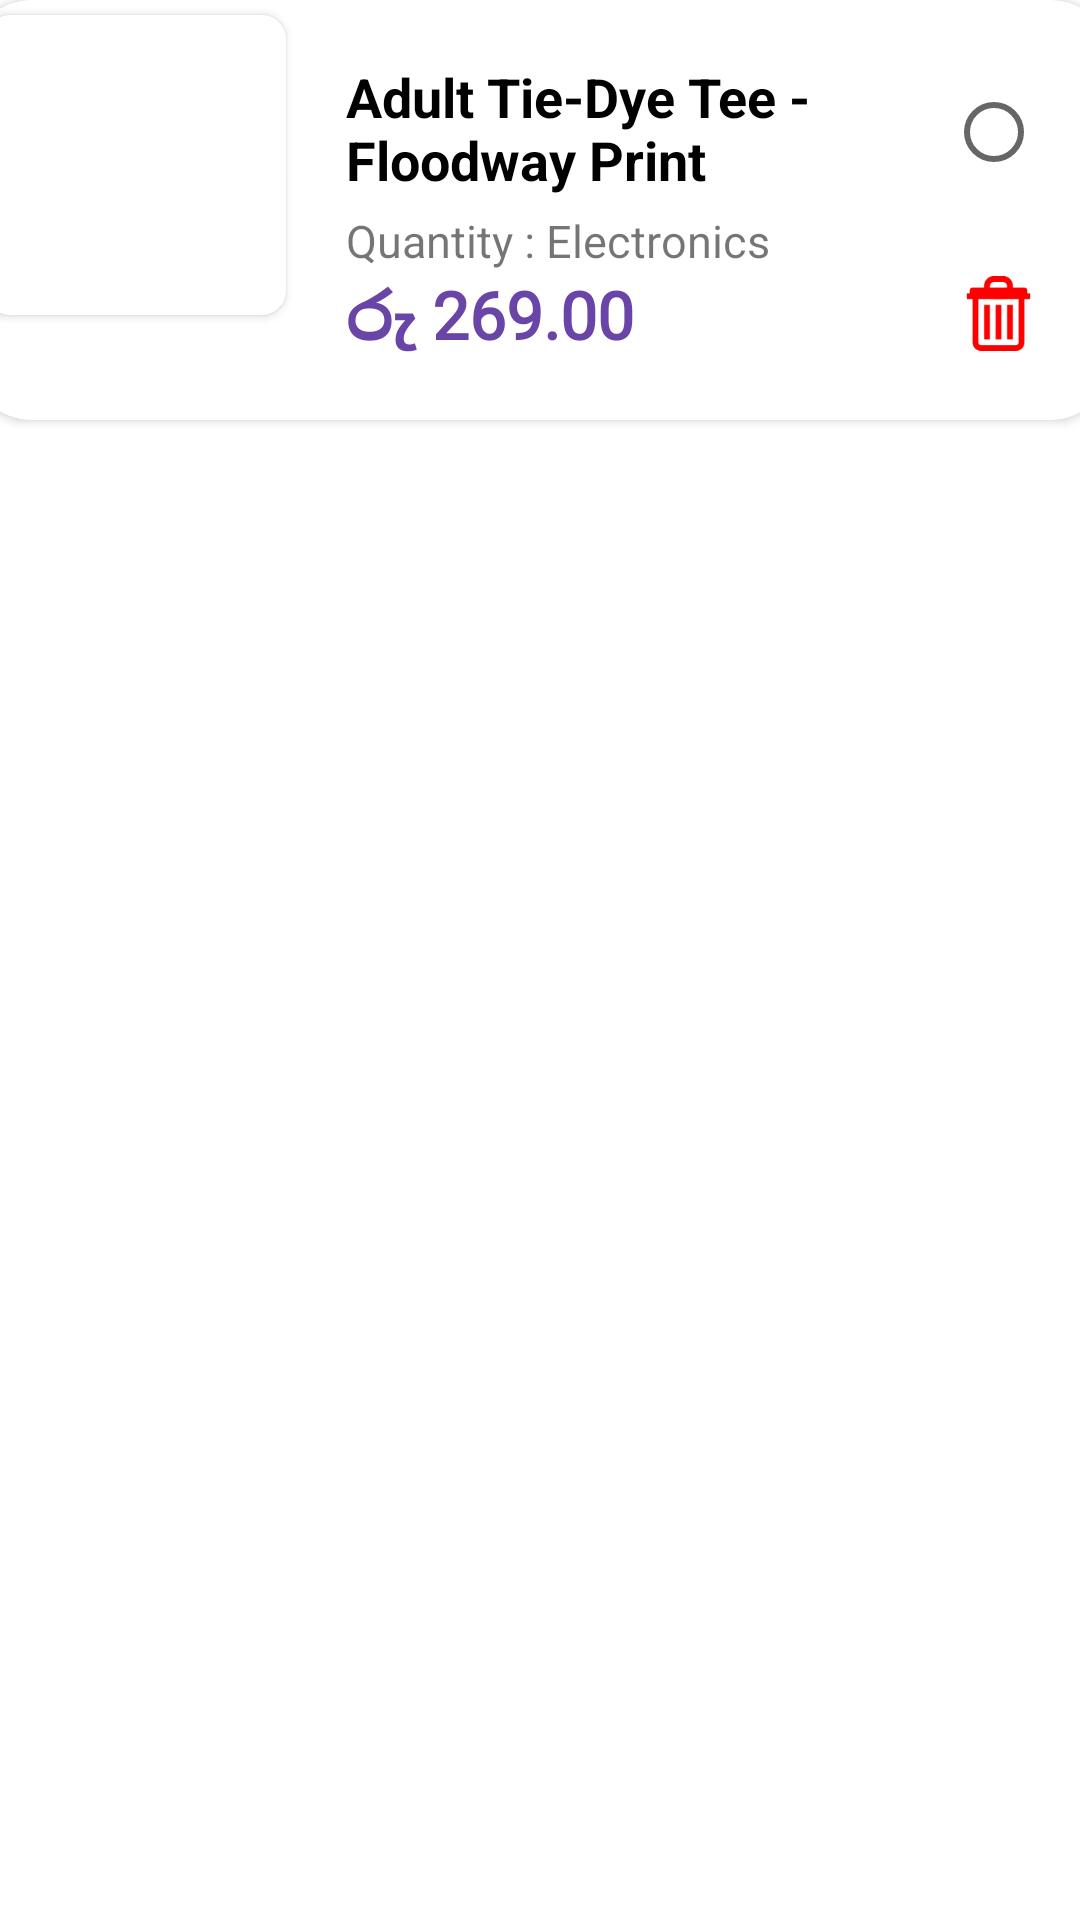

Screen size 1080*1920. Icon name, then its center in pixels as (x=x, y=y):
delete: (x=998, y=313)
